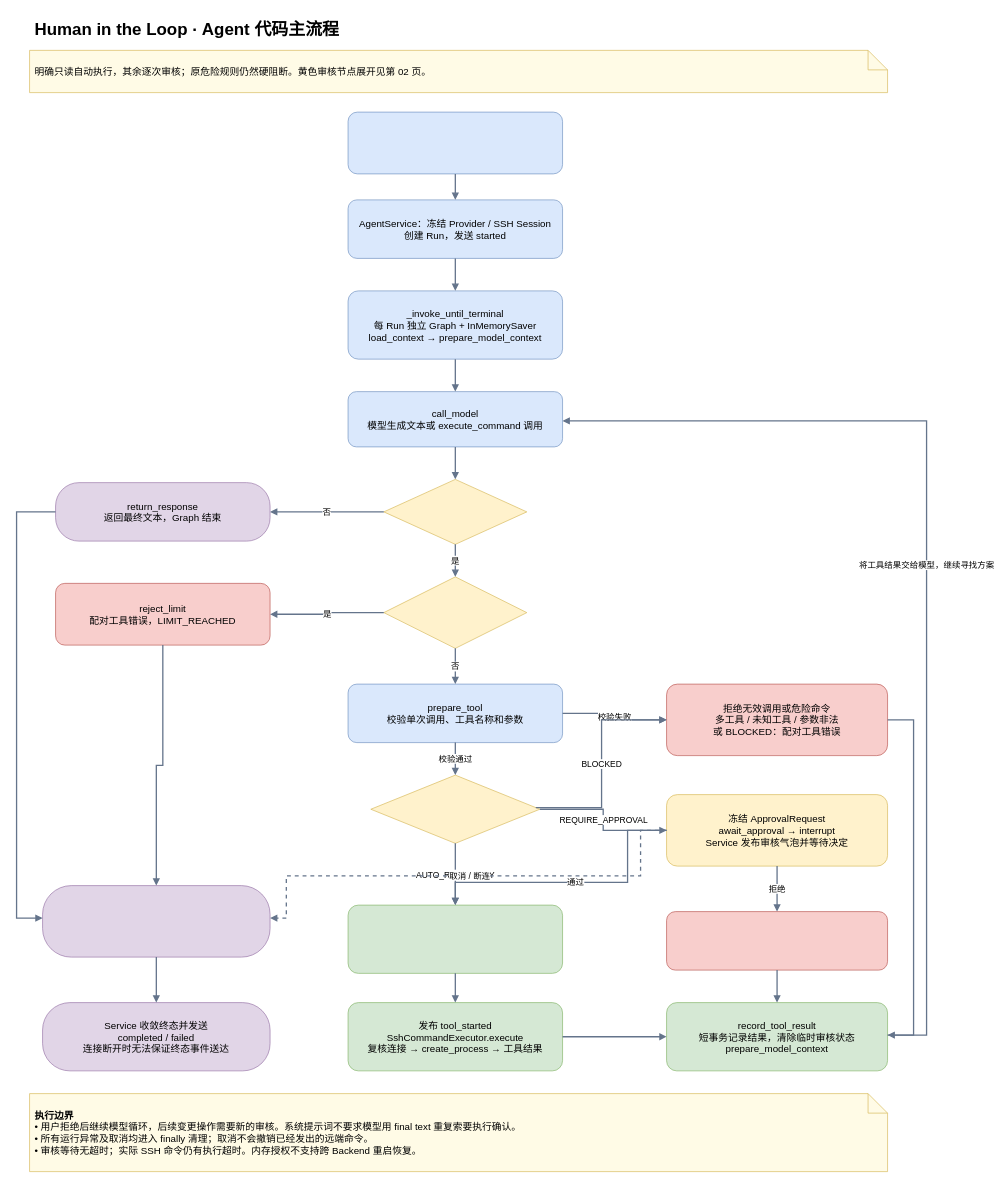
Image size: 1005x1183. Some labels were removed from this diagram. The shapes that lost their labels are listed below. From the top down, each one's centre as x and y in pixels, then its label:
At (x=455, y=142): "UI：requestSend → dispatchTurn agentApi.streamAgentTurn POST /v1/agent/turns（SSE）".
At (x=455, y=511): "有工具调用？".
At (x=455, y=612): "超过 ReAct 迭代上限？".
At (x=455, y=808): "classify_command".
At (x=156, y=921): "_invoke_until_terminal finally 释放 ApprovalRegistry / 等待任务 删除该 Run 的内存 checkpoint".
At (x=455, y=938): "execute_tool 复核取消状态及原始操作 审核操作还须 consume 一次性授权".
At (x=777, y=940): "COMMAND_REJECTED_BY_USER 不执行命令，构造配对 ToolMessage".
